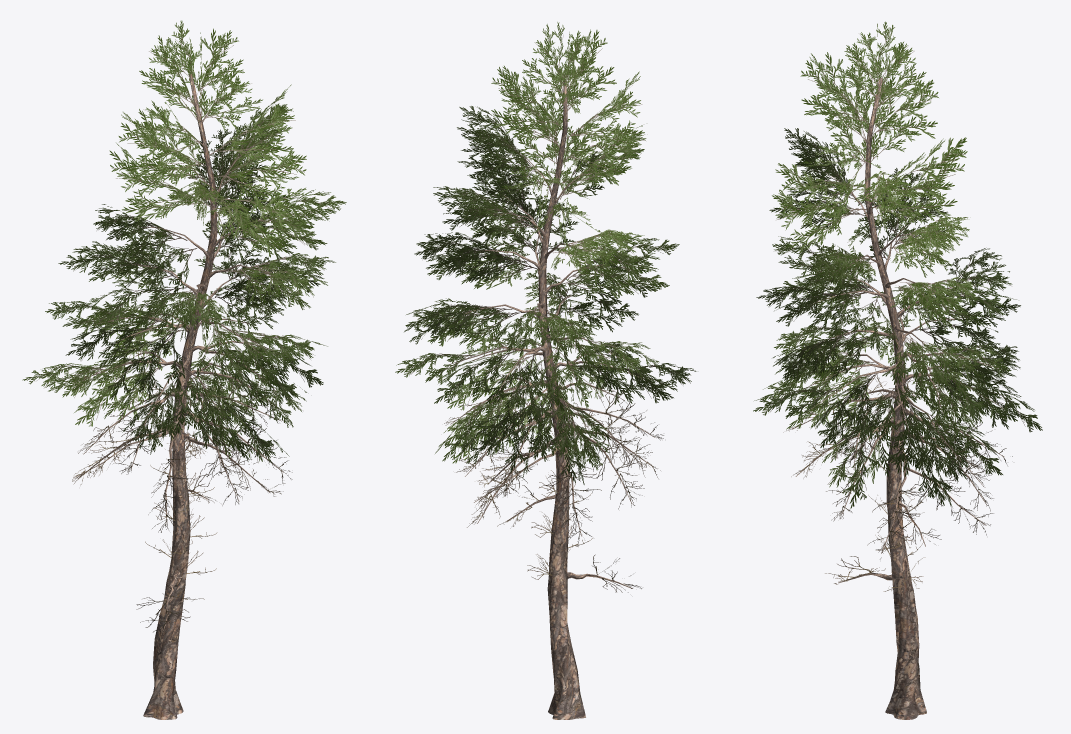
File: arbo_spruce.glb
3 renders of one model, left to right at view 1: azimuth 30°, elevation 25°; view 2: azimuth 150°, elevation 25°; view 3: azimuth 270°, elevation 25°, orthographic. The views are drawn at different scales.
Visible parts, largest first — view 1: Tree_0_Tree_0Mat_0; view 2: Tree_0_Tree_0Mat_0; view 3: Tree_0_Tree_0Mat_0.
Boxes of the visible parts, <box> form: Tree_0_Tree_0Mat_0: <box>22,20,346,719</box>; Tree_0_Tree_0Mat_0: <box>395,22,696,719</box>; Tree_0_Tree_0Mat_0: <box>753,21,1042,719</box>.
Size of the model in its own units: 5.48 by 14 by 5.72.
Materials: 3 (3 with a texture image).
